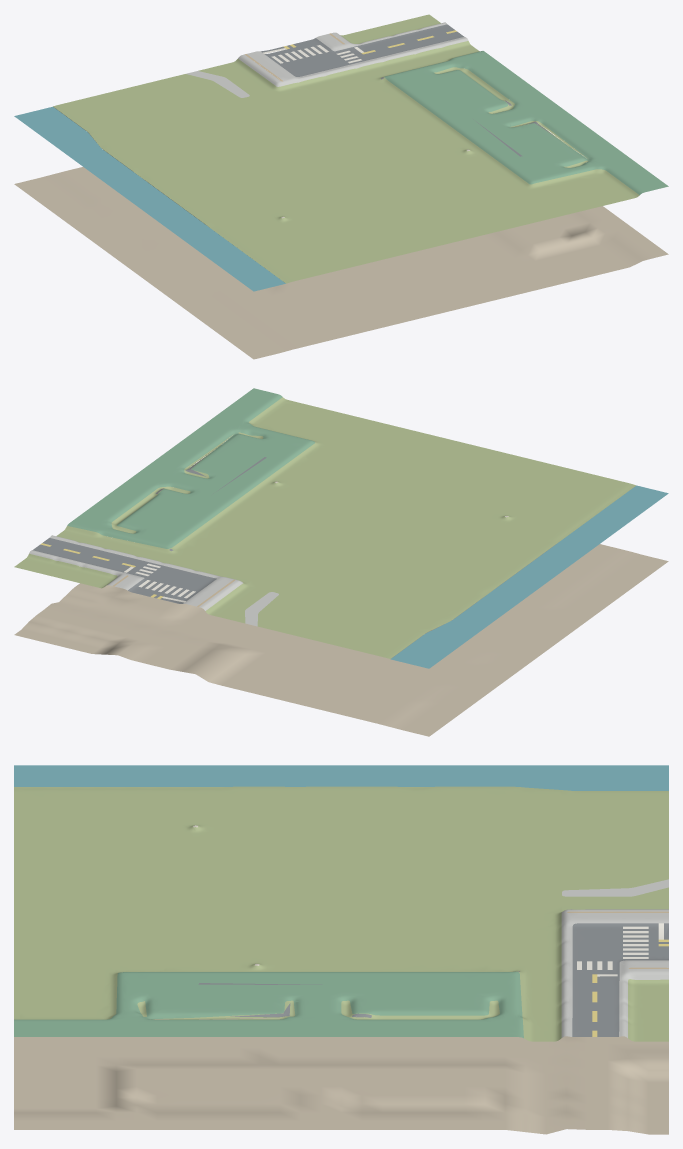
3 renders of one model, top to bottom at view 1: azimuth 30°, elevation 25°; view 2: azimuth 150°, elevation 25°; view 3: azimuth 270°, elevation 25°, orthographic. The views are drawn at different scales.
Visible parts, largest first — view 1: s_-12_-2__grass, s_-12_-2__soil, s_-12_-2__green_court, s_-12_-2__water, s_-12_-2__asphalt, s_-12_-2__stone_paving, s_-12_-2__white_marking; view 2: s_-12_-2__grass, s_-12_-2__soil, s_-12_-2__green_court, s_-12_-2__water, s_-12_-2__asphalt, s_-12_-2__stone_paving, s_-12_-2__white_marking; view 3: s_-12_-2__grass, s_-12_-2__soil, s_-12_-2__green_court, s_-12_-2__water, s_-12_-2__asphalt, s_-12_-2__stone_paving, s_-12_-2__white_marking.
Part boxes in pixels (x1=…): s_-12_-2__grass: x1=53, y1=14, x2=639, y2=283; s_-12_-2__soil: x1=14, y1=167, x2=668, y2=359; s_-12_-2__green_court: x1=384, y1=51, x2=668, y2=194; s_-12_-2__water: x1=14, y1=106, x2=285, y2=291; s_-12_-2__asphalt: x1=261, y1=24, x2=553, y2=156; s_-12_-2__stone_paving: x1=186, y1=22, x2=468, y2=97; s_-12_-2__white_marking: x1=263, y1=45, x2=363, y2=63; s_-12_-2__grass: x1=14, y1=397, x2=635, y2=658; s_-12_-2__soil: x1=14, y1=481, x2=668, y2=736; s_-12_-2__green_court: x1=67, y1=388, x2=315, y2=548; s_-12_-2__water: x1=391, y1=485, x2=668, y2=668; s_-12_-2__asphalt: x1=32, y1=456, x2=266, y2=603; s_-12_-2__stone_paving: x1=29, y1=535, x2=278, y2=626; s_-12_-2__white_marking: x1=124, y1=563, x2=195, y2=602; s_-12_-2__grass: x1=14, y1=786, x2=668, y2=1041; s_-12_-2__soil: x1=14, y1=1016, x2=668, y2=1134; s_-12_-2__green_court: x1=14, y1=971, x2=523, y2=1038; s_-12_-2__water: x1=14, y1=765, x2=668, y2=790; s_-12_-2__asphalt: x1=198, y1=923, x2=668, y2=1036; s_-12_-2__stone_paving: x1=561, y1=879, x2=668, y2=1037; s_-12_-2__white_marking: x1=577, y1=923, x2=663, y2=976.
Size of the model in its own units: 128 by 21.64 by 128.
